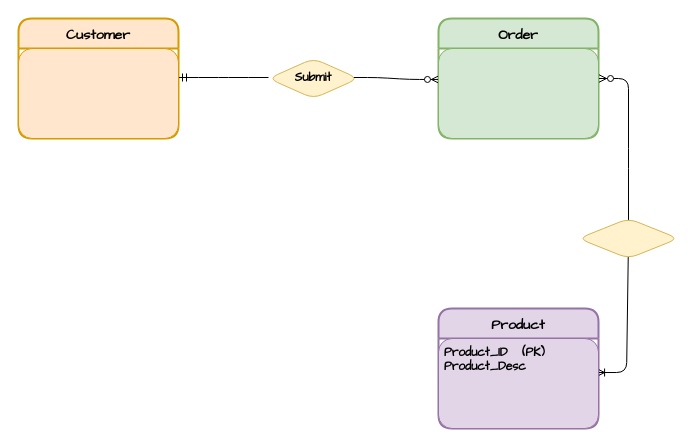
Some shapes in this 696 by 446 pixel diagram are drawn without their labels. The shapes that lost their labels are listed below. From the top down, each one's centre as x and y in pixels, then its label:
point 98,93: Cust_ID (PK) Cust_FN Cust_LN Cust_Contact
point 518,93: Order_ID (PK) Order_Date Cust_ID (FK)
point 628,238: Lists
